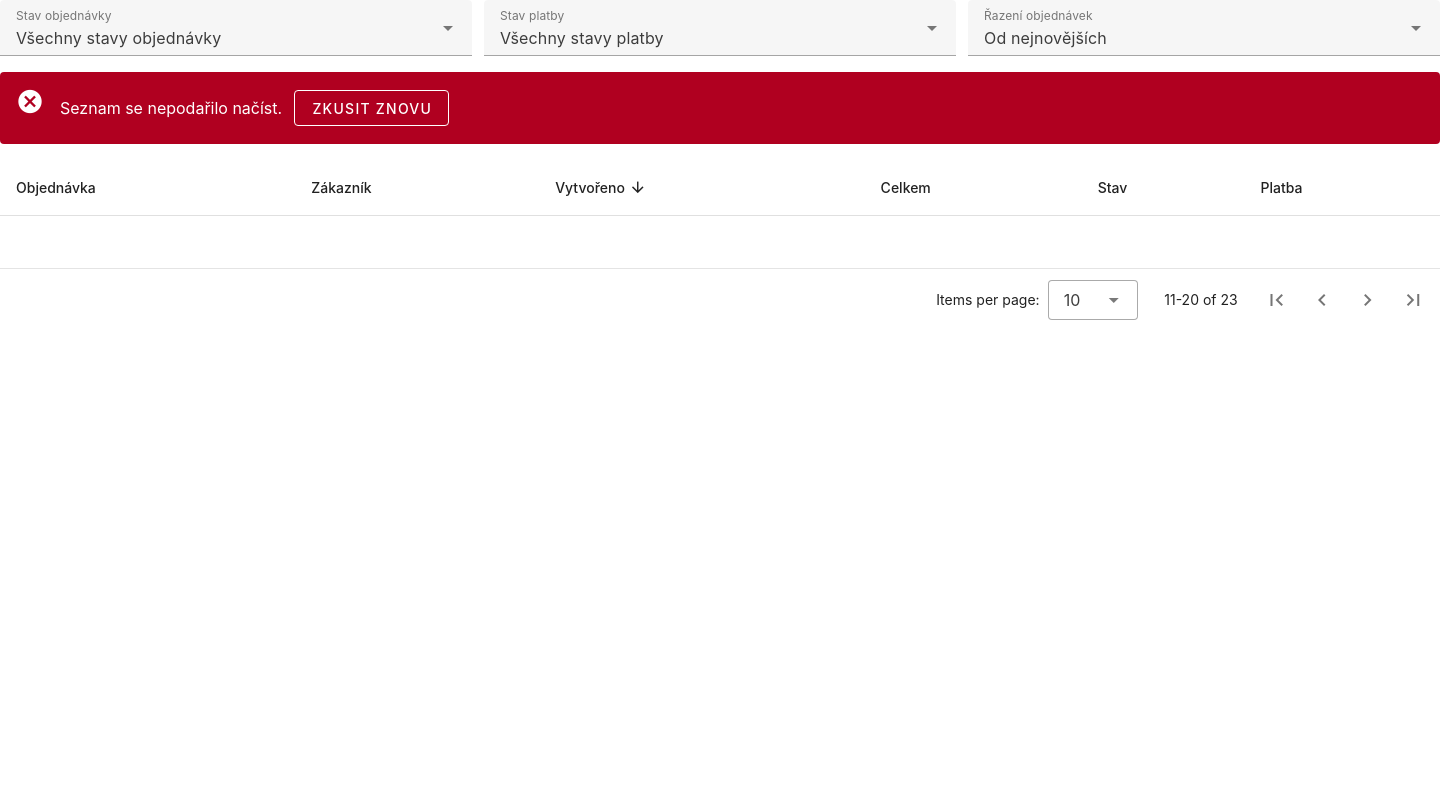
Test: hides stale rows on failure and retries the current page
Click the button "Zkusit znovu".
click(372, 108)  # box [294, 90, 449, 126]
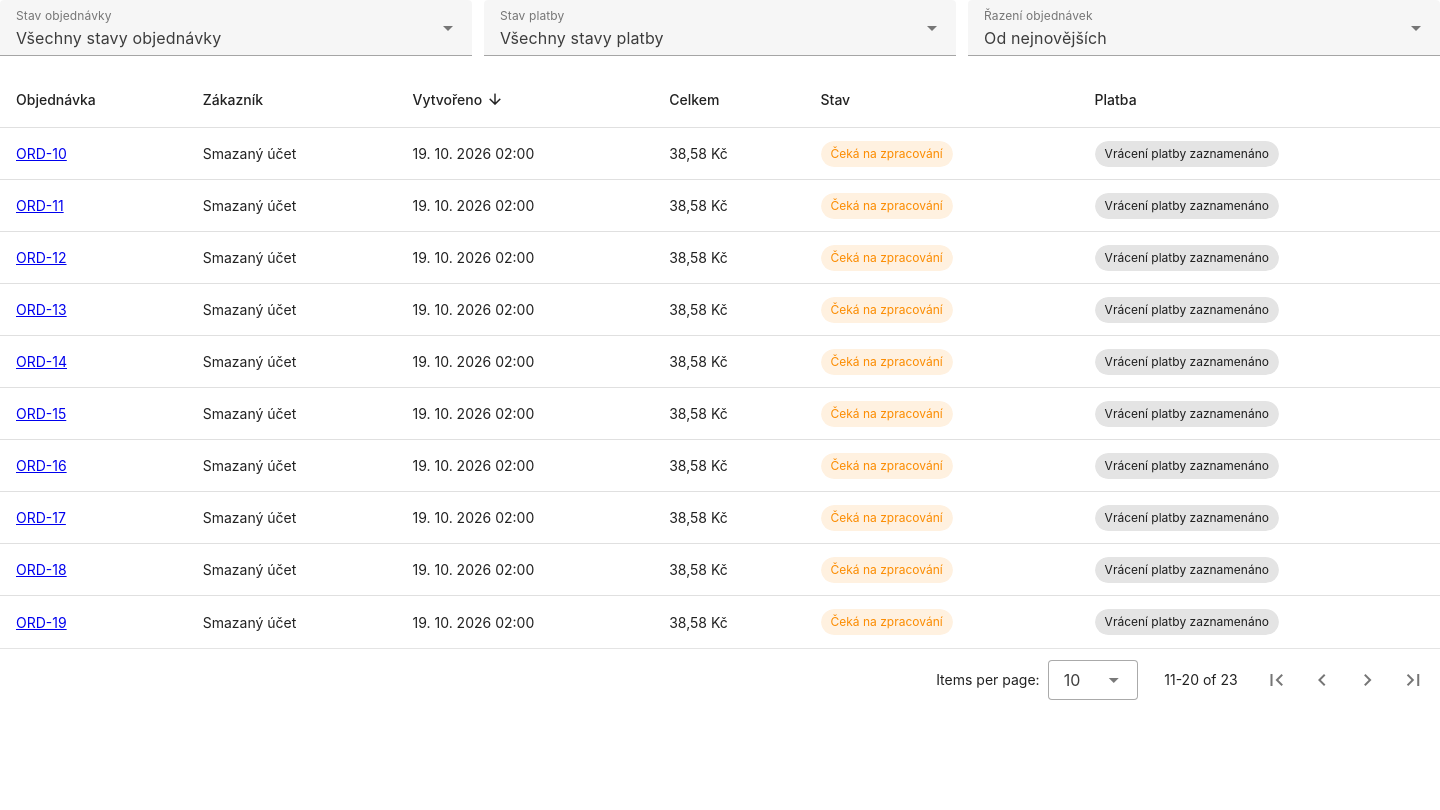
Now the row that starts with "ORD-10" is shown, box [16, 142, 67, 166]
